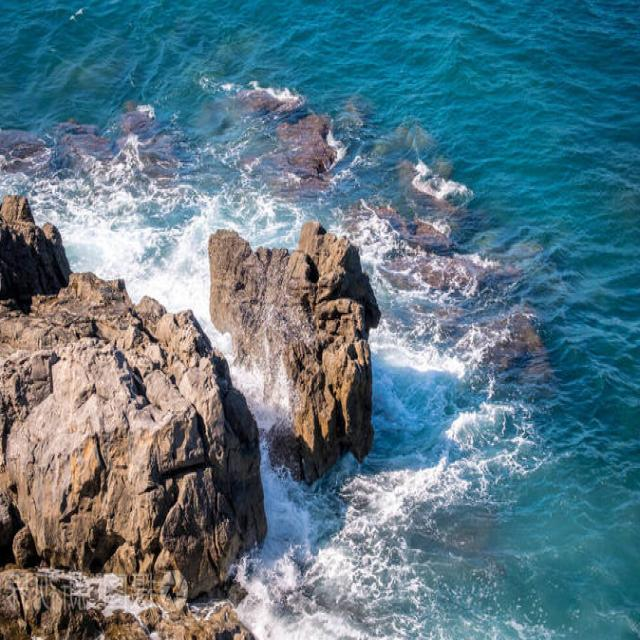reef: (206, 205, 420, 430), (228, 105, 358, 205)
